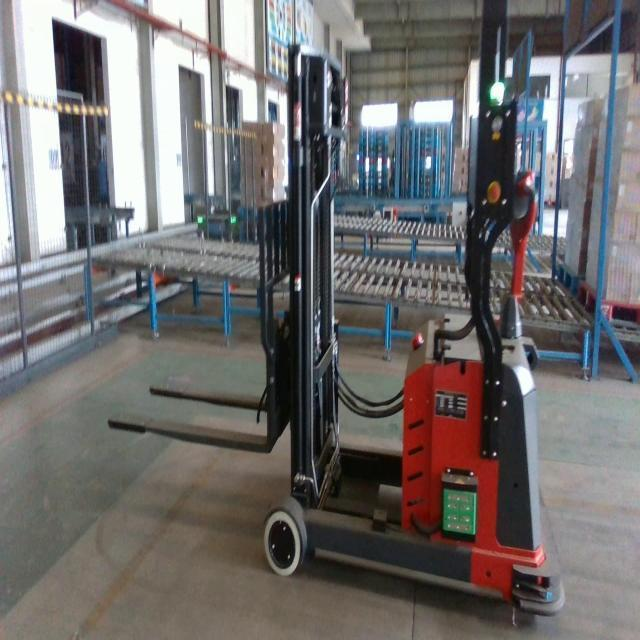forklift: (106, 0, 568, 631)
